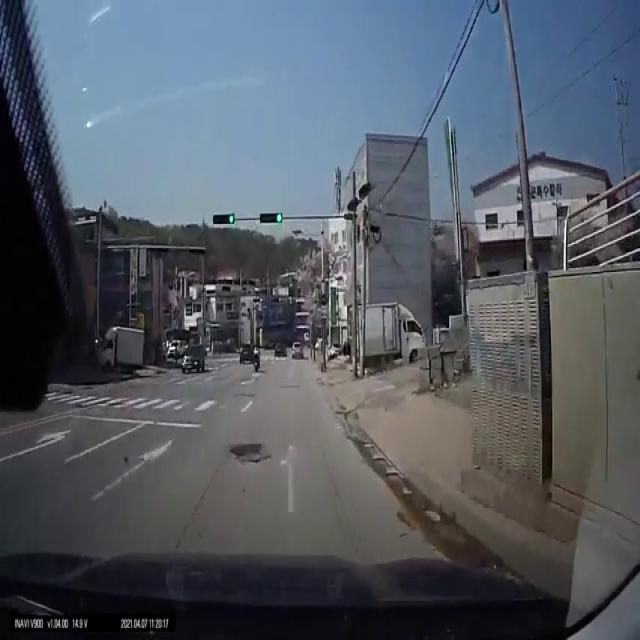Pothole: (228, 439, 264, 460)
